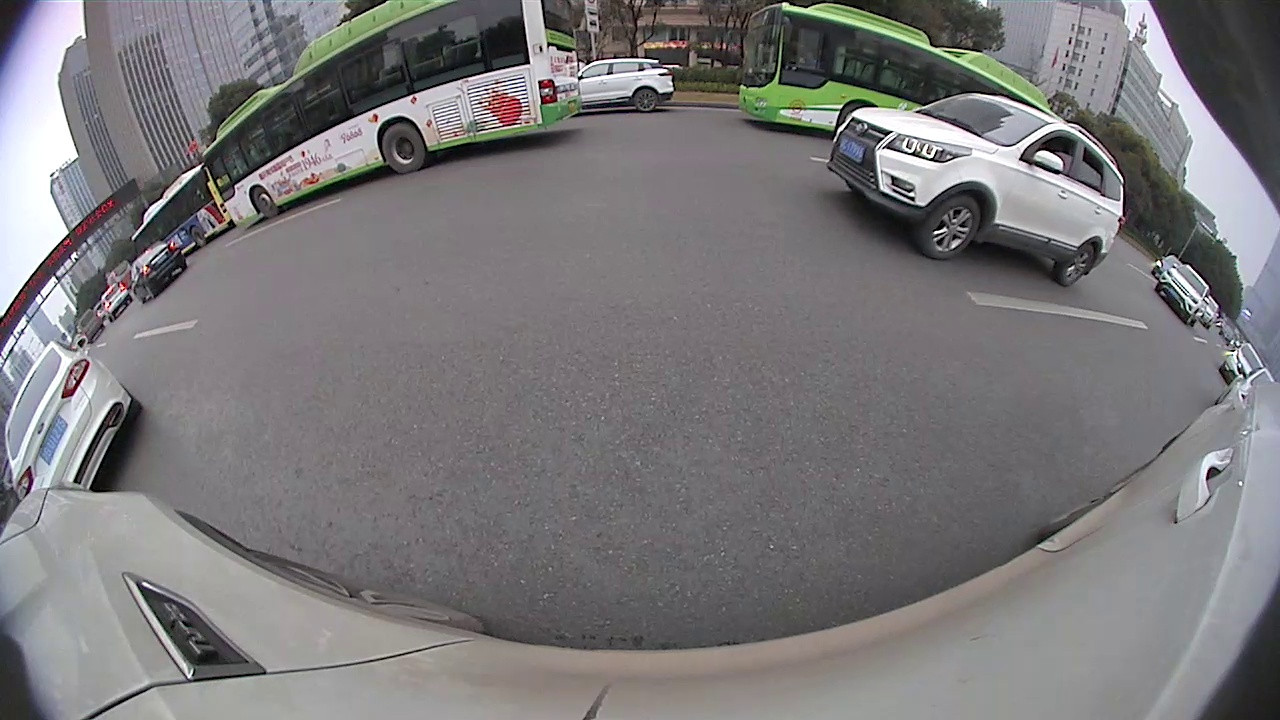bus: (199, 1, 584, 233), (734, 4, 1066, 143)
car: (824, 88, 1130, 292), (7, 339, 143, 500), (571, 54, 679, 116), (127, 236, 190, 303), (1155, 256, 1211, 326)
front: (915, 192, 984, 261), (249, 185, 279, 221)
rear: (378, 123, 430, 176), (1060, 243, 1098, 287), (633, 87, 658, 114), (189, 226, 207, 249)
